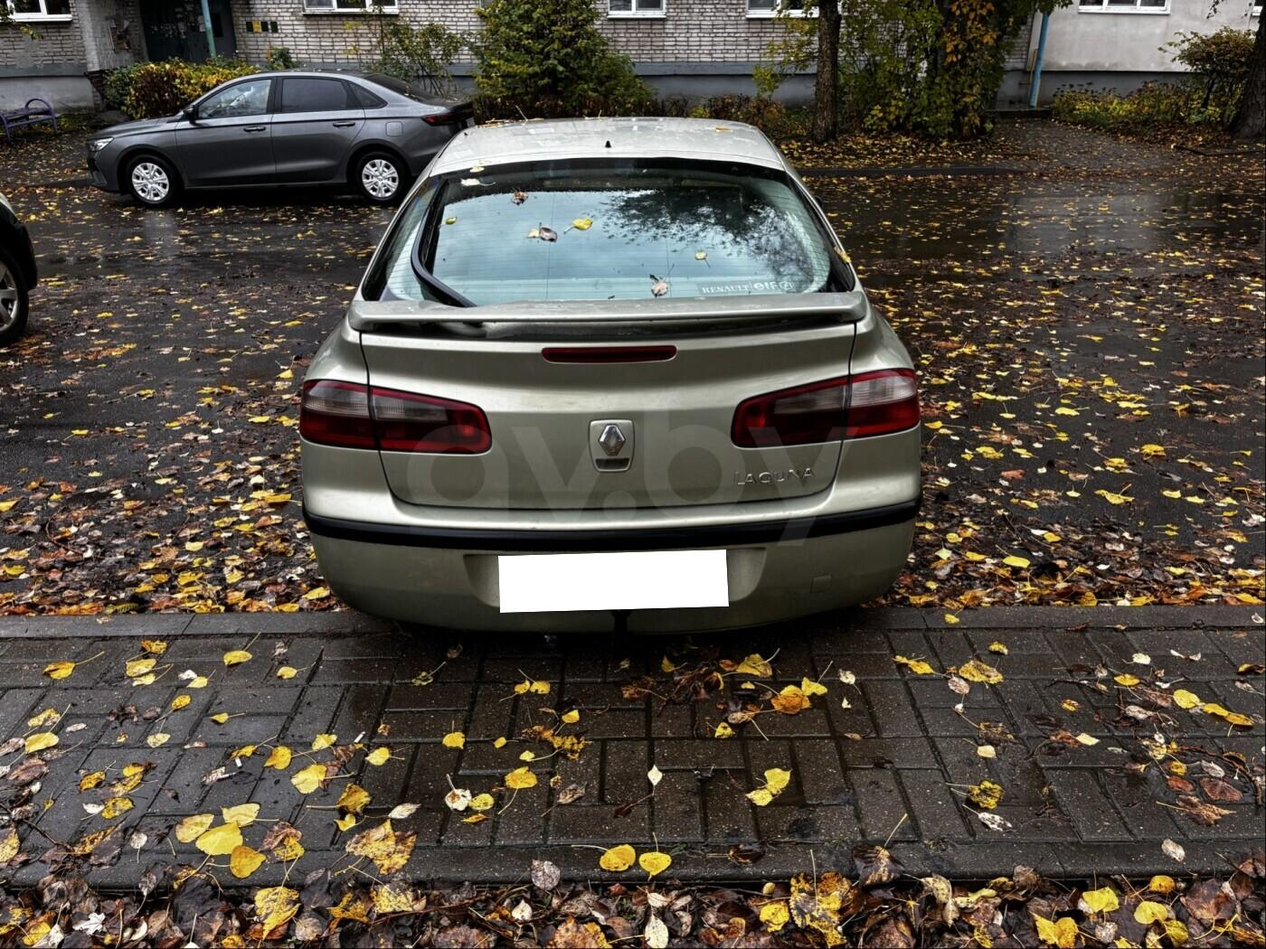Laguna_2001-2005: (298, 118, 921, 630)
